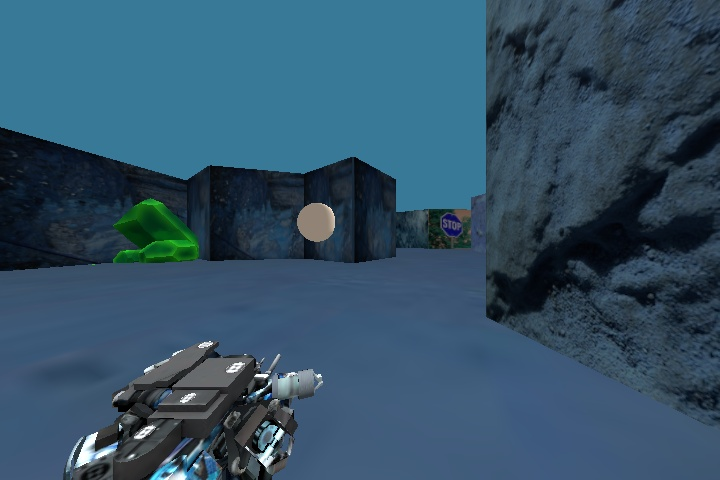green_crystal: (104, 187, 206, 263)
stop_sign: (434, 208, 468, 242)
white_sphere: (289, 196, 344, 247)
